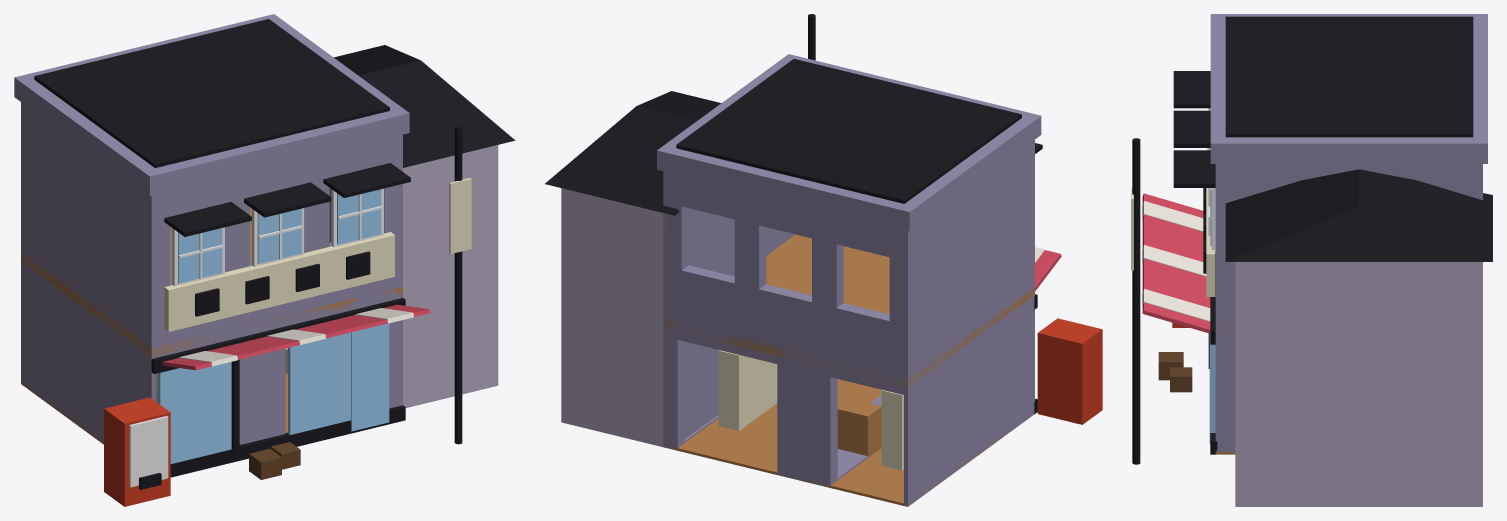
The model's file is jaian.glb.
The picture shows the model from 3 angles, left to right: view 1: azimuth 30°, elevation 25°; view 2: azimuth 150°, elevation 25°; view 3: azimuth 270°, elevation 25°; orthographic projection. The views are drawn at different scales.
Parts seen in each view (by area): view 1: shop_body, shop_roofslab, shop_wing, shop_parapet, shop_wing_roof, shop_sign, shop_front_l, shop_front_r, vend_body, shop_door, shop_awning, shop_frame_b (+20 smaller); view 2: shop_body, shop_roofslab, shop_wing, shop_parapet, shop_wing_roof, shop_floor, shop_slab, vend_body, shop_shelfrow1, shop_counter, shop_shelfrow2; view 3: shop_wing, shop_roofslab, shop_wing_roof, shop_parapet, shop_body, shop_awning, shop_pole, shop_awn2_2, shop_awn2_0, shop_awn2_1, shop_stripe2, shop_stripe1 (+5 smaller).
Boxes of the visible parts, x1,y1,x2,y2 form: shop_body: (21,102,402,444); shop_roofslab: (34,19,389,167); shop_wing: (403,145,498,407); shop_parapet: (14,14,409,196); shop_wing_roof: (334,45,515,167); shop_sign: (164,232,394,331); shop_front_l: (158,362,231,463); shop_front_r: (288,332,350,434); vend_body: (104,397,170,506); shop_door: (351,323,389,431); shop_awning: (162,304,430,370); shop_frame_b: (170,405,405,477); shop_body: (663,140,1034,506); shop_roofslab: (676,59,1021,203); shop_wing: (561,188,667,446); shop_parapet: (657,54,1041,231); shop_wing_roof: (545,91,721,215); shop_floor: (665,379,1030,505); shop_slab: (663,234,1034,386); vend_body: (1037,318,1102,424); shop_shelfrow1: (718,350,777,430); shop_counter: (837,395,881,457); shop_shelfrow2: (881,390,903,470); shop_wing: (1235,262,1482,506); shop_roofslab: (1225,16,1473,137); shop_wing_roof: (1225,169,1492,261); shop_parapet: (1210,14,1487,163); shop_body: (1215,164,1482,454); shop_awning: (1142,193,1210,333); shop_pole: (1132,138,1140,464); shop_awn2_2: (1173,150,1215,187); shop_awn2_0: (1173,71,1210,108); shop_awn2_1: (1173,110,1210,147); shop_stripe2: (1142,289,1210,321); shop_stripe1: (1142,245,1206,276).
Bounding box in the file's own units: 9.95 × 7.2 × 7.31.
